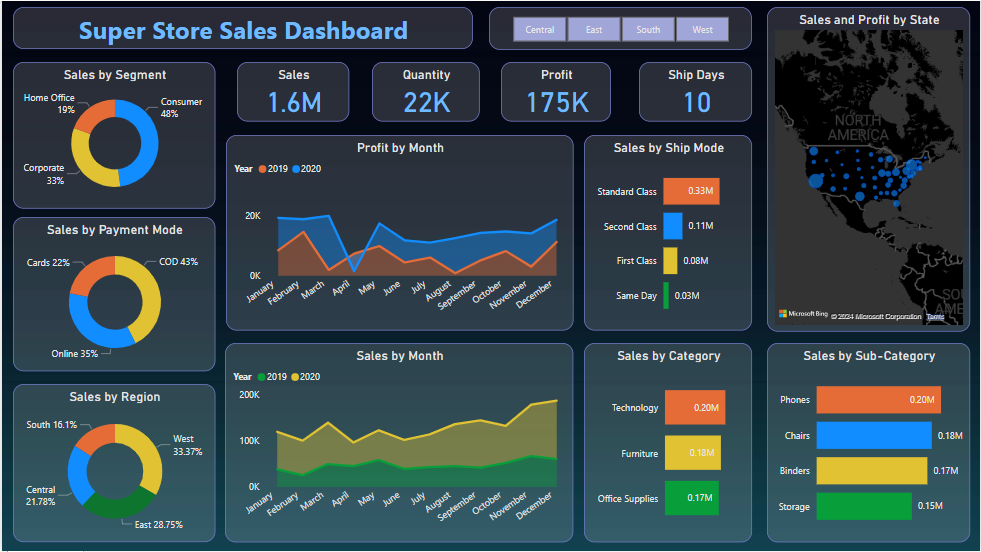

The page's visual inventory and layout, read from the dashboard file:
{"tool":"powerbi","page":{"name":"Page 1","canvas":[1280,720],"ordinal":0},"visuals":[{"type":"clusteredBarChart","title":"Sales by Sub-Category","fields":{"Category":["SuperStore_Sales_Dataset.Sub-Category"],"Y":["Sum(SuperStore_Sales_Dataset.Sales)"]},"box":[1000.8,447.8,266.4,260.6],"z":0},{"type":"clusteredBarChart","title":"Sales by Ship Mode","fields":{"Category":["SuperStore_Sales_Dataset.Ship Mode"],"Y":["Sum(SuperStore_Sales_Dataset.Sales)"]},"box":[761.8,175.7,220.3,256.3],"z":1000},{"type":"stackedAreaChart","title":"Sales by Month","fields":{"Y":["Sum(SuperStore_Sales_Dataset.Sales)"],"Category":["SuperStore_Sales_Dataset.Order Date.Variation.Date Hierarchy.Month","SuperStore_Sales_Dataset.Order Date.Variation.Date Hierarchy.Day"],"Series":["SuperStore_Sales_Dataset.Order Date.Variation.Date Hierarchy.Year"]},"box":[292.3,447.8,456.5,260.6],"z":2000},{"type":"stackedAreaChart","title":"Profit by Month","fields":{"Category":["SuperStore_Sales_Dataset.Order Date.Variation.Date Hierarchy.Month"],"Series":["SuperStore_Sales_Dataset.Order Date.Variation.Date Hierarchy.Year"],"Y":["Sum(SuperStore_Sales_Dataset.Profit)"]},"box":[293.8,175.7,455,256.3],"z":3000},{"type":"map","title":" Sales and  Profit by State","fields":{"Category":["SuperStore_Sales_Dataset.State"],"Size":["Sum(SuperStore_Sales_Dataset.Sales)"]},"box":[1000.8,7.2,266.4,424.8],"z":4000},{"type":"donutChart","title":"Sales by Segment","fields":{"Category":["SuperStore_Sales_Dataset.Segment"],"Y":["Sum(SuperStore_Sales_Dataset.Sales)"]},"box":[14.4,79.2,265,191.5],"z":5000},{"type":"donutChart","title":"Sales by Payment Mode","fields":{"Category":["SuperStore_Sales_Dataset.Payment Mode"],"Y":["Sum(SuperStore_Sales_Dataset.Sales)"]},"box":[14.4,282.2,265,201.6],"z":6000},{"type":"slicer","fields":{"Values":["SuperStore_Sales_Dataset.Region"]},"box":[637.9,7.2,344.2,56.2],"z":7000},{"type":"textbox","box":[14.4,7.9,602.2,55],"z":8000},{"type":"card","title":"Sales","fields":{"Values":["Sum(SuperStore_Sales_Dataset.Sales)"]},"box":[308.2,79.2,146.9,77.8],"z":9000},{"type":"card","title":"Quantity","fields":{"Values":["Sum(SuperStore_Sales_Dataset.Quantity)"]},"box":[483.8,79.2,141.1,77.8],"z":10000},{"type":"card","title":"Profit","fields":{"Values":["Sum(SuperStore_Sales_Dataset.Profit)"]},"box":[653.8,79.2,144,77.8],"z":11000},{"type":"card","title":"Ship Days","fields":{"Values":["Avg(SuperStore_Sales_Dataset.AvgDelivery)"]},"box":[833.8,79.2,148.3,77.8],"z":12000},{"type":"donutChart","title":"Sales by Region","fields":{"Category":["SuperStore_Sales_Dataset.Region"],"Y":["Sum(SuperStore_Sales_Dataset.Sales)"]},"box":[14.4,501.1,265,207.4],"z":12001},{"type":"clusteredBarChart","title":"Sales by Category","fields":{"Category":["SuperStore_Sales_Dataset.Category"],"Y":["Sum(SuperStore_Sales_Dataset.Sales)"]},"box":[761.8,447.8,220.3,260.6],"z":12002}]}

Visuals, with their boxes in screenshot pixels (x1, y1, x2, y2), scaled from the page's 1280x720 canvas onto the 981x552 screenshot:
"Sales by Sub-Category" clusteredBarChart: [767,343,971,543]
"Sales by Ship Mode" clusteredBarChart: [584,135,753,331]
"Sales by Month" stackedAreaChart: [224,343,574,543]
"Profit by Month" stackedAreaChart: [225,135,574,331]
" Sales and  Profit by State" map: [767,6,971,331]
"Sales by Segment" donutChart: [11,61,214,208]
"Sales by Payment Mode" donutChart: [11,216,214,371]
slicer - SuperStore_Sales_Dataset.Region: [489,6,753,49]
textbox: [11,6,473,48]
"Sales" card: [236,61,349,120]
"Quantity" card: [371,61,479,120]
"Profit" card: [501,61,611,120]
"Ship Days" card: [639,61,753,120]
"Sales by Region" donutChart: [11,384,214,543]
"Sales by Category" clusteredBarChart: [584,343,753,543]
